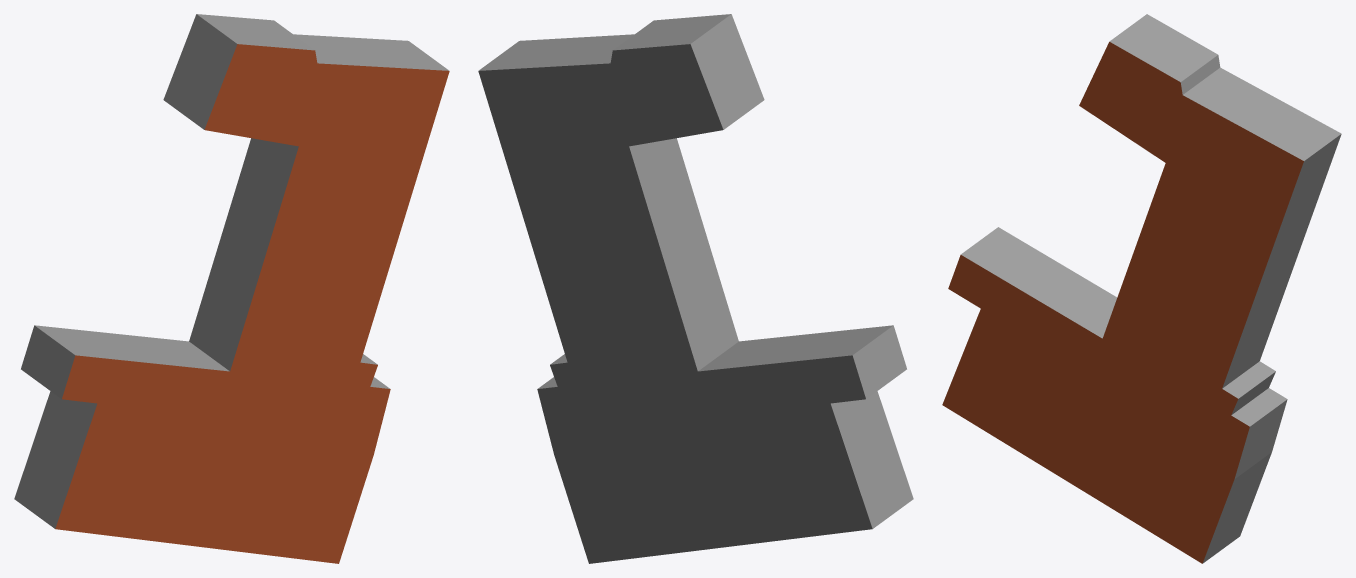
Rendered from construction_1848_assumed_A_Casa_h6m.obj.
The picture shows the model from 3 angles, left to right: view 1: azimuth 30°, elevation 25°; view 2: azimuth 150°, elevation 25°; view 3: azimuth 330°, elevation 25°; orthographic projection. The views are drawn at different scales.
Visible parts, largest first — view 1: construction_1848_assumed_A_Casa; view 2: construction_1848_assumed_A_Casa; view 3: construction_1848_assumed_A_Casa.
Boxes of the visible parts, box(x1,y1,x2,y2) form: construction_1848_assumed_A_Casa: box(14, 14, 449, 563); construction_1848_assumed_A_Casa: box(478, 14, 913, 563); construction_1848_assumed_A_Casa: box(942, 14, 1341, 563).
Size of the model in its own units: 33.26 by 43.89 by 6.
